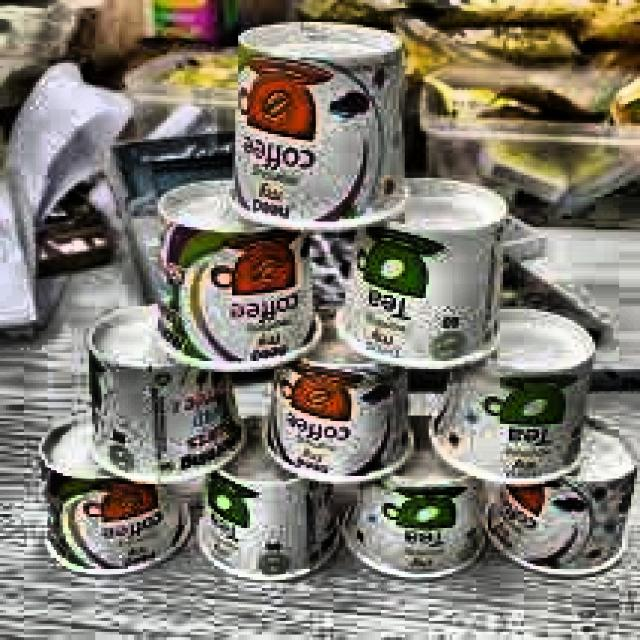Cup: (223, 21, 424, 236), (133, 175, 328, 375), (425, 294, 605, 488), (334, 178, 510, 372), (80, 302, 247, 476), (251, 325, 427, 489), (26, 414, 191, 582), (197, 408, 347, 582), (492, 406, 640, 580), (349, 406, 492, 585)
